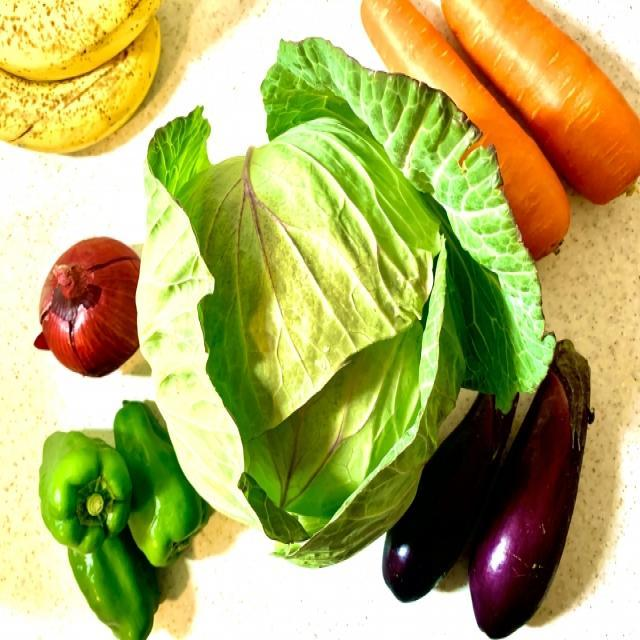cabbage: (127, 38, 553, 578)
carrot: (360, 1, 573, 264), (442, 2, 640, 209)
eggplant: (468, 336, 597, 640), (382, 382, 521, 602)
